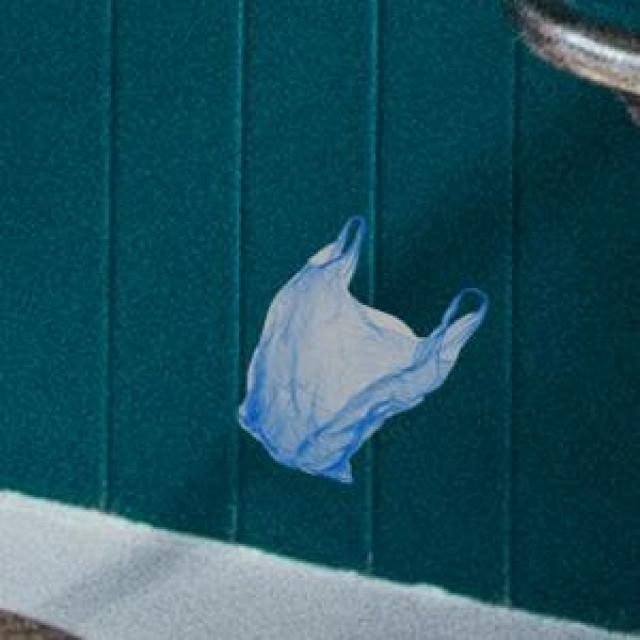plastic: (200, 143, 514, 490)
